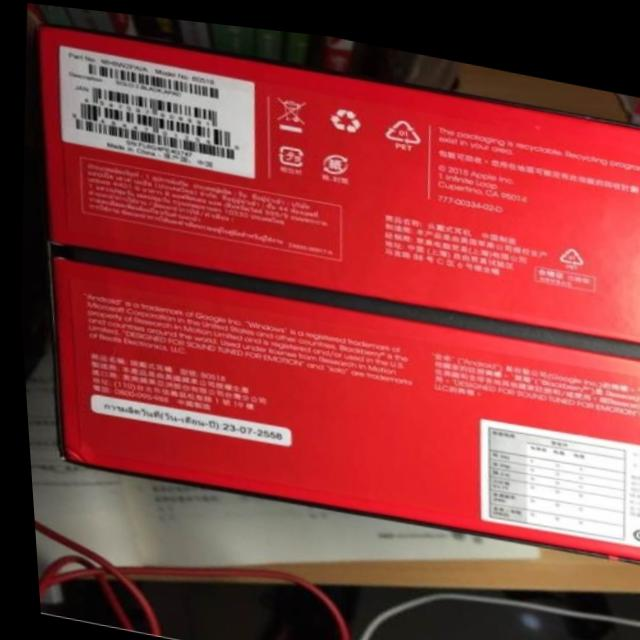box: (41, 24, 640, 553)
